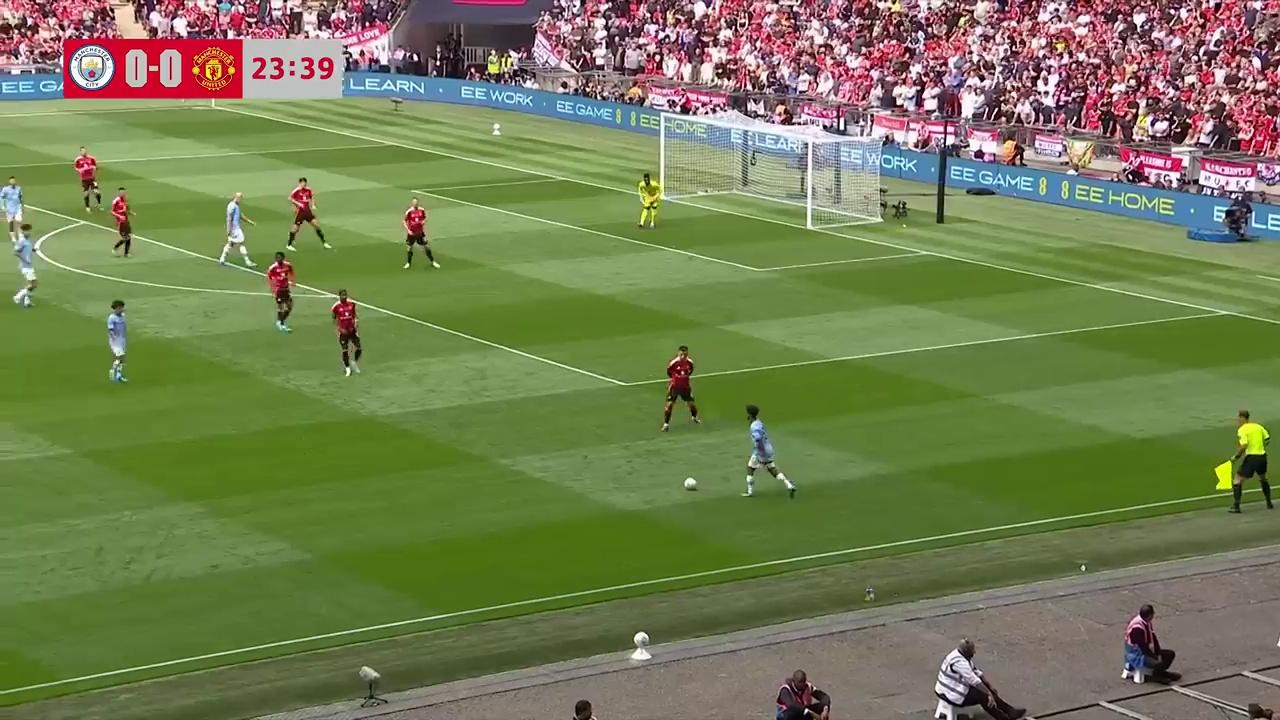ball: (682, 474, 698, 490)
player: (743, 405, 794, 498), (659, 344, 703, 430), (286, 176, 331, 250), (218, 192, 257, 269), (330, 289, 362, 376), (401, 199, 440, 269), (264, 251, 296, 333), (11, 224, 38, 308), (106, 299, 128, 383), (73, 146, 101, 212), (109, 186, 135, 256), (0, 175, 24, 238), (637, 173, 658, 229)
referee: (1229, 411, 1275, 513)
